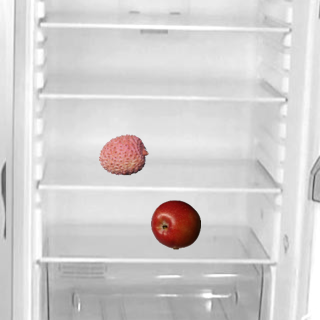Apple Braeburn: (150, 199, 200, 249)
Lychee: (98, 129, 148, 179)
